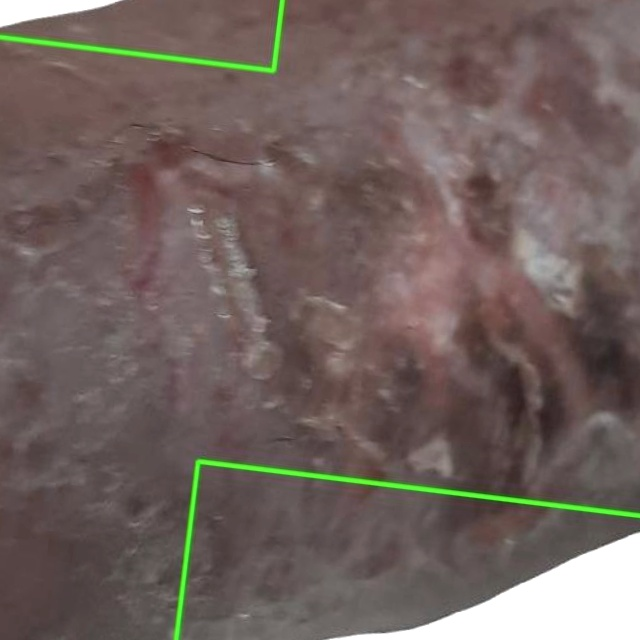Eczema: (176, 461, 639, 639)
